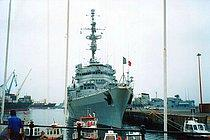MIL_Ship: (67, 21, 135, 128)
